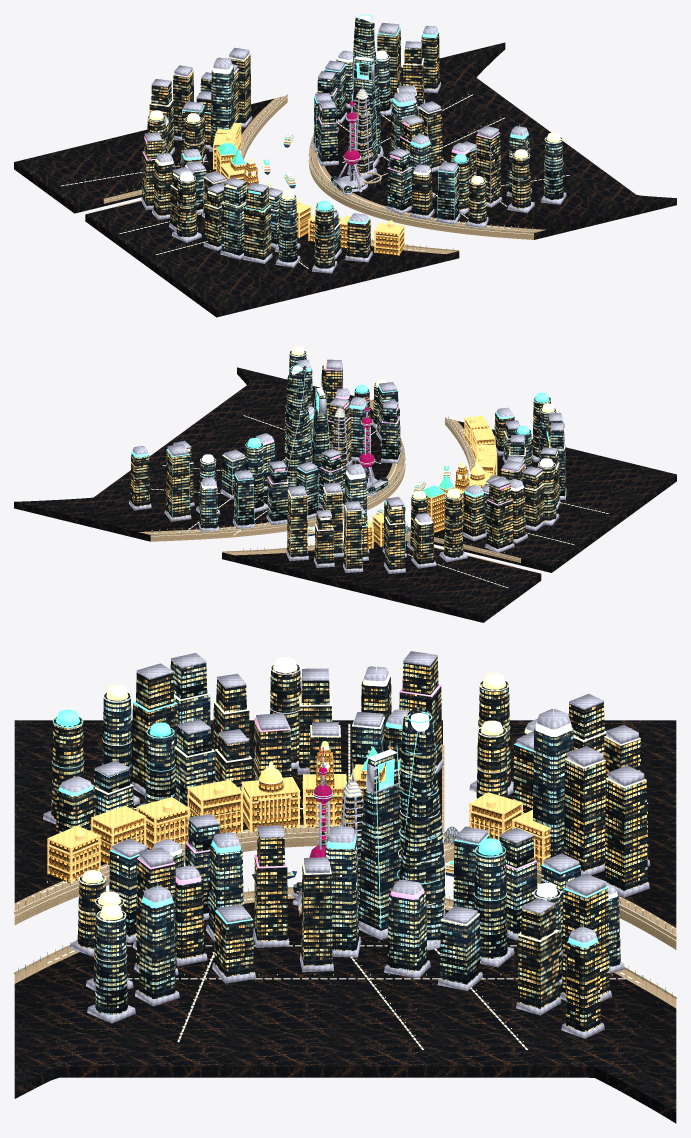
Rendered from shanghai_hero_stage.glb.
The picture shows the model from 3 angles, top to bottom: view 1: azimuth 30°, elevation 25°; view 2: azimuth 150°, elevation 25°; view 3: azimuth 270°, elevation 25°; orthographic projection. The views are drawn at different scales.
Parts seen in each view (by area): view 1: SH_UrbanNightGrid_Ground, SH_Skyscrapers_WarmGlass, SH_Skyscrapers_CoolGlass, SH_OrientalPearl_And_Steel, SH_Promenade_Walkways, SH_Glow_Bund_And_Streets_Gold, SH_Bund_NeoclassicalFacades, SH_Bund_CarvedStoneTrim, SH_Glow_Skyline_Cyan, SH_Glow_Crown_DiamondWhite, SH_Glow_Rooftop_Crimson; view 2: SH_UrbanNightGrid_Ground, SH_Skyscrapers_WarmGlass, SH_Skyscrapers_CoolGlass, SH_OrientalPearl_And_Steel, SH_Promenade_Walkways, SH_Glow_Bund_And_Streets_Gold, SH_Bund_CarvedStoneTrim, SH_Glow_Skyline_Cyan, SH_Bund_NeoclassicalFacades, SH_Glow_Crown_DiamondWhite, SH_Glow_Rooftop_Crimson; view 3: SH_UrbanNightGrid_Ground, SH_Skyscrapers_WarmGlass, SH_Skyscrapers_CoolGlass, SH_OrientalPearl_And_Steel, SH_Bund_NeoclassicalFacades, SH_Bund_CarvedStoneTrim, SH_Glow_Bund_And_Streets_Gold, SH_Promenade_Walkways, SH_Glow_Skyline_Cyan, SH_Glow_Crown_DiamondWhite, SH_Glow_Rooftop_Crimson.
Part boxes in pixels (box(x1,y1,x2,y2)): SH_UrbanNightGrid_Ground: box(14, 42, 676, 317); SH_Skyscrapers_WarmGlass: box(142, 29, 530, 268); SH_Skyscrapers_CoolGlass: box(185, 17, 563, 262); SH_OrientalPearl_And_Steel: box(141, 22, 566, 273); SH_Promenade_Walkways: box(103, 94, 545, 254); SH_Glow_Bund_And_Streets_Gold: box(61, 43, 569, 268); SH_Bund_NeoclassicalFacades: box(214, 127, 404, 255); SH_Bund_CarvedStoneTrim: box(213, 122, 404, 255); SH_Glow_Skyline_Cyan: box(181, 14, 533, 236); SH_Glow_Crown_DiamondWhite: box(177, 15, 390, 206); SH_Glow_Rooftop_Crimson: box(142, 78, 499, 202); SH_UrbanNightGrid_Ground: box(14, 367, 676, 622); SH_Skyscrapers_WarmGlass: box(130, 365, 562, 570); SH_Skyscrapers_CoolGlass: box(199, 350, 565, 530); SH_OrientalPearl_And_Steel: box(129, 359, 566, 573); SH_Promenade_Walkways: box(139, 399, 520, 566); SH_Glow_Bund_And_Streets_Gold: box(151, 346, 608, 587); SH_Bund_CarvedStoneTrim: box(343, 415, 497, 548); SH_Glow_Skyline_Cyan: box(132, 359, 563, 550); SH_Bund_NeoclassicalFacades: box(367, 420, 495, 548); SH_Glow_Crown_DiamondWhite: box(199, 366, 555, 531); SH_Glow_Rooftop_Crimson: box(262, 363, 524, 505); SH_UrbanNightGrid_Ground: box(14, 720, 676, 1123); SH_Skyscrapers_WarmGlass: box(51, 657, 648, 1031); SH_Skyscrapers_CoolGlass: box(93, 660, 620, 1014); SH_OrientalPearl_And_Steel: box(43, 651, 650, 1038); SH_Bund_NeoclassicalFacades: box(48, 746, 550, 882); SH_Bund_CarvedStoneTrim: box(47, 758, 551, 883); SH_Glow_Bund_And_Streets_Gold: box(14, 663, 676, 1049); SH_Promenade_Walkways: box(14, 743, 676, 1008); SH_Glow_Skyline_Cyan: box(15, 701, 668, 992); SH_Glow_Crown_DiamondWhite: box(269, 657, 648, 932); SH_Glow_Rooftop_Crimson: box(137, 684, 537, 899).
Size of the model in its own units: 499 by 140 by 357.
Materials: 20 (14 with a texture image).
